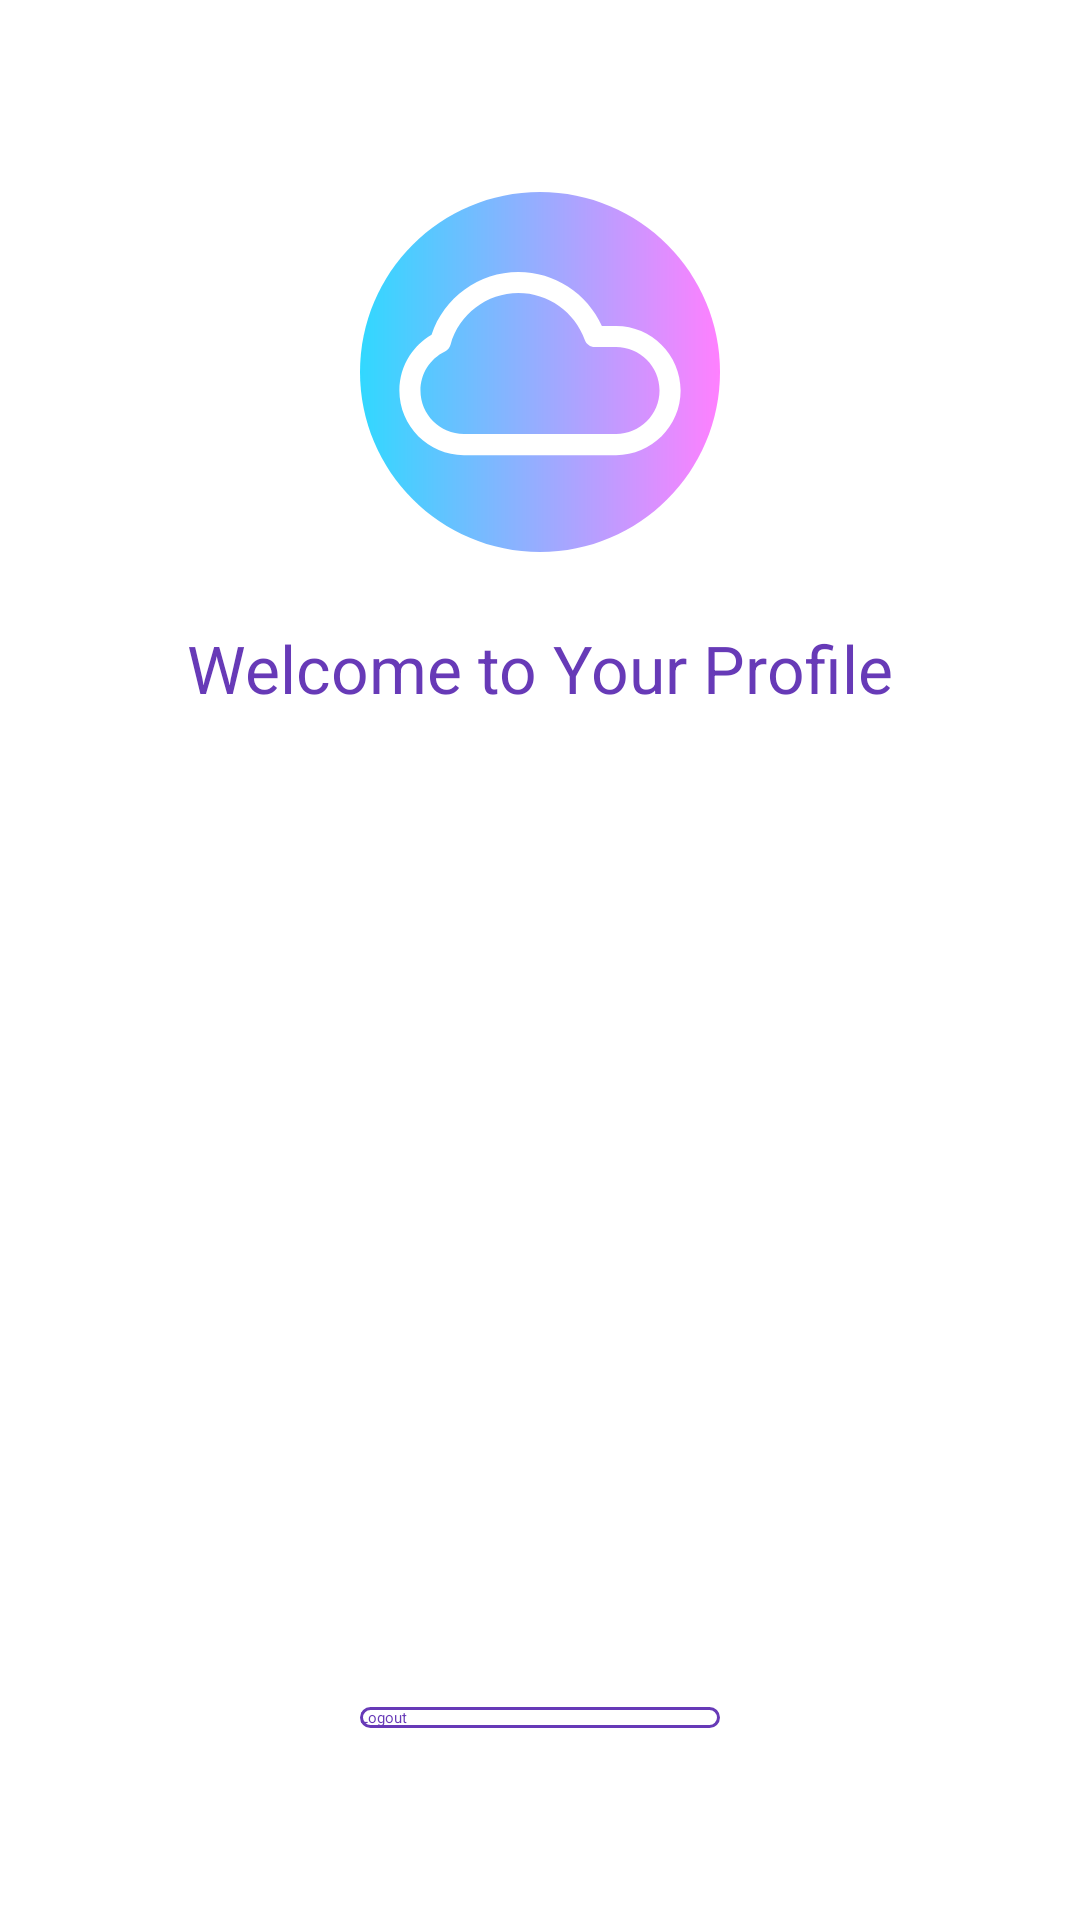

Where to tap for icons on this 1080 x 1920 app screen, as point (x, y):
cloud computing: point (540, 372)
